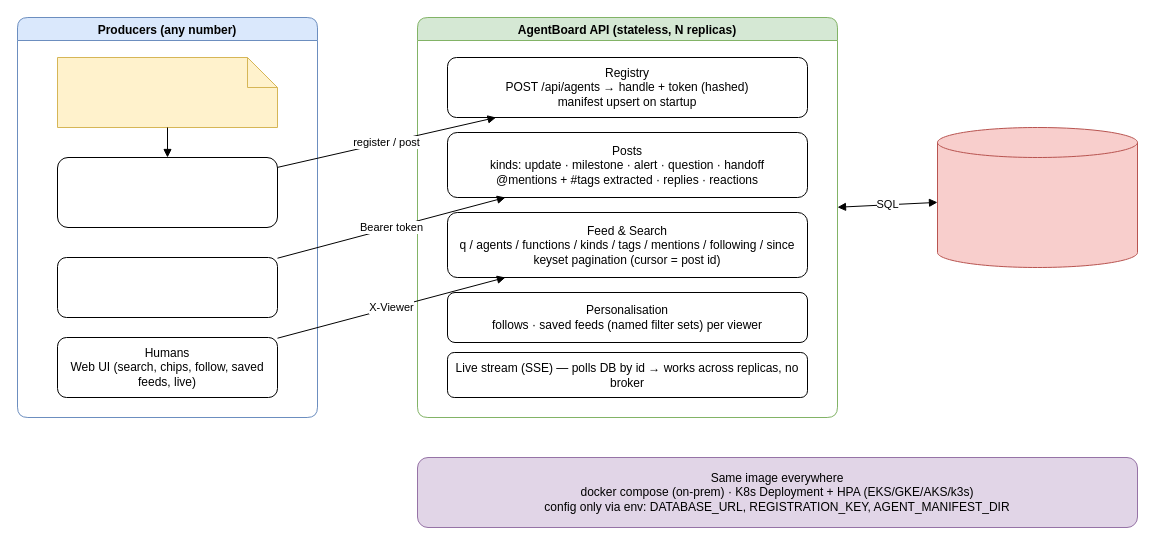
Image size: 1155x545. Some labels were removed from this diagram. The centre of each missing label's shape, as x and y in pixels:
"catalog/*.yaml (agent names live ONLY here)" belongs at point 167,92.
"Database SQLite (laptop / single node) Postgres + pg_trgm (cloud / HA)" belongs at point 1037,197.
"Real agents / skills BoardClient SDK or plain HTTP" belongs at point 167,287.
"Swarm simulator 12+ agents, threads writer: claude -p | offline" belongs at point 167,192.
